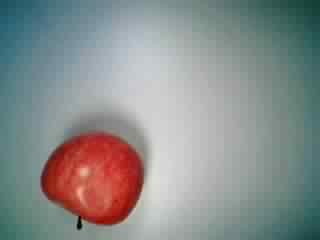apple: (41, 126, 144, 230)
